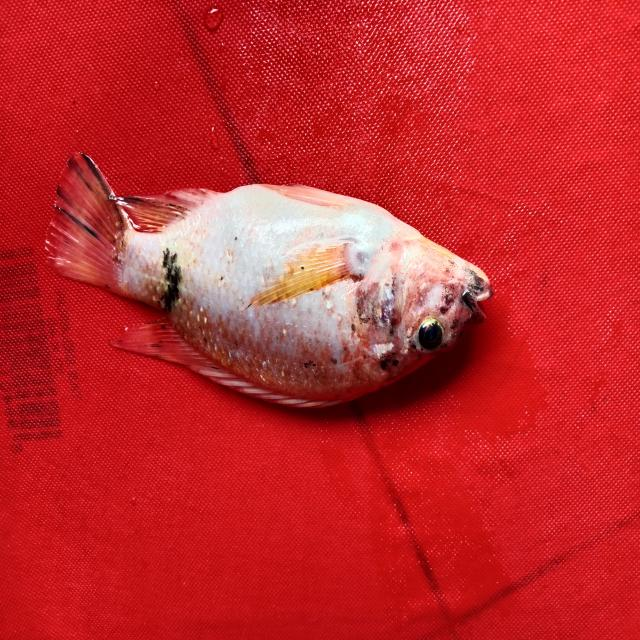ikan: (29, 133, 518, 435)
